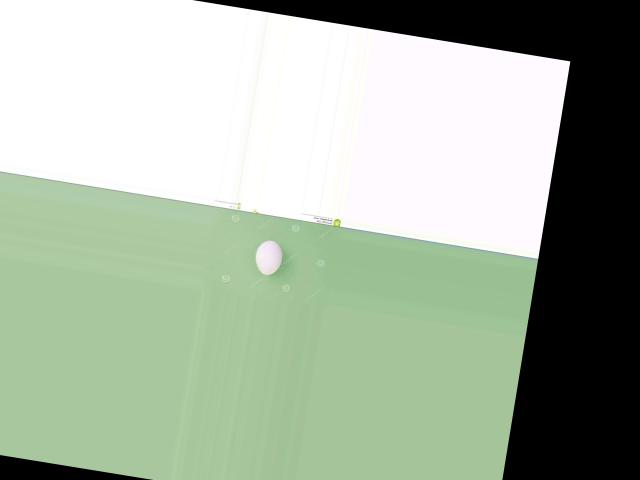egg: (253, 238, 284, 276)
